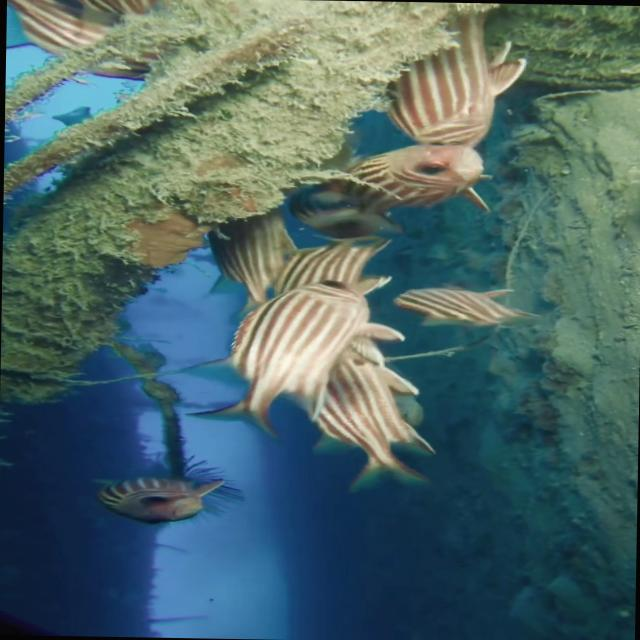Asker Baligi: (201, 272, 379, 422), (380, 41, 514, 192), (87, 452, 244, 527)
